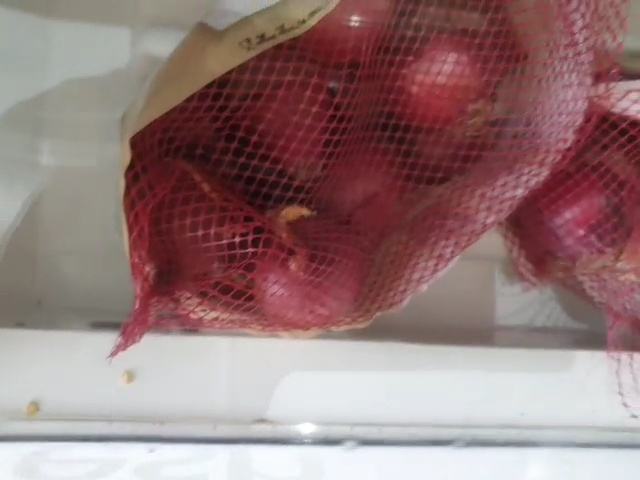red_onion: (131, 8, 553, 327)
